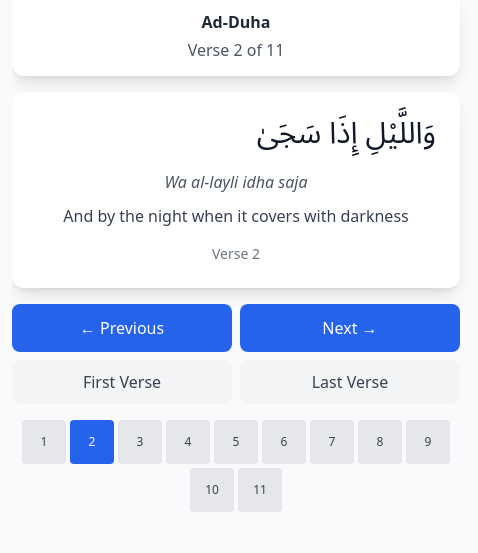
Test case: Reading Mode Integration › should handle rapid back and forth navigation
Step 1. Click the button "Next →" → [350, 328], box [240,304,460,352]
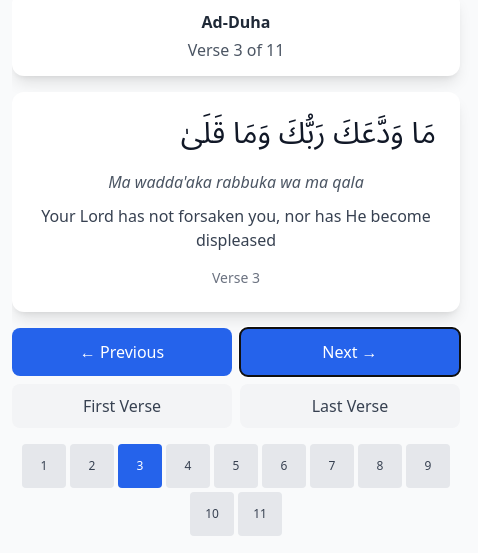
Step 2. Click the button "← Previous" → [122, 352], box [12,328,232,376]
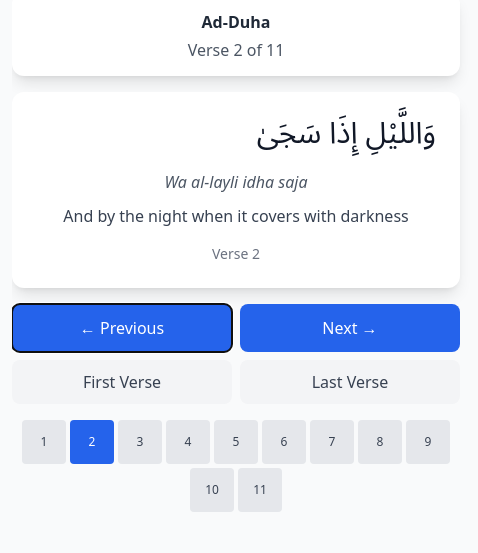
Step 3. Click the button "← Previous" → [122, 328], box [12,304,232,352]
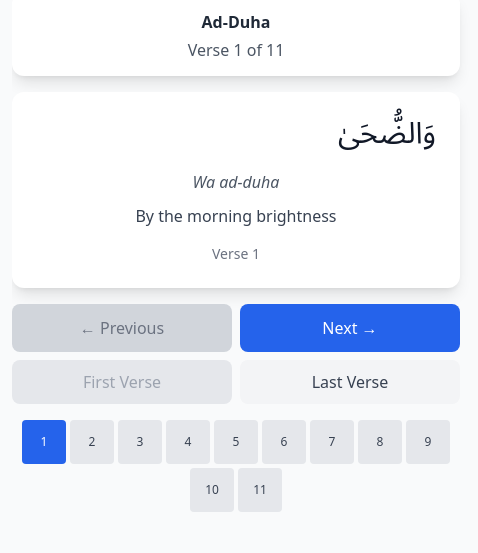
Result: the text "Verse 1 of 11" is shown at [188,39,284,61]
